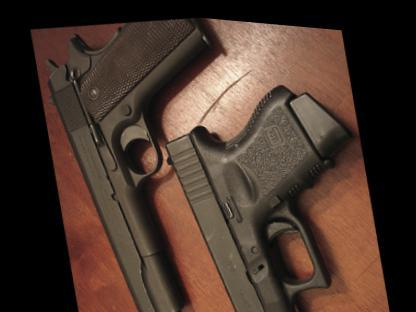pistol: (33, 2, 259, 311), (150, 55, 381, 311)
